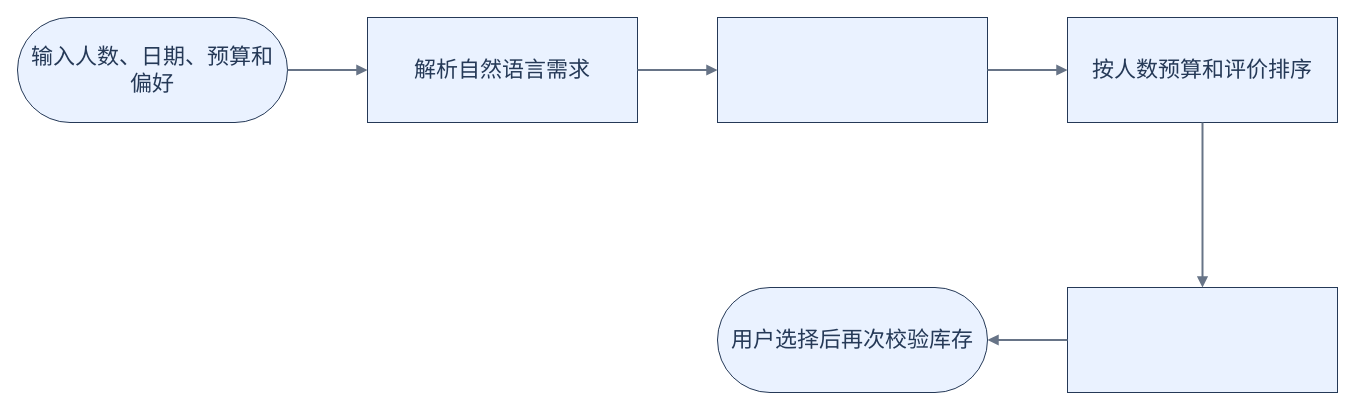
Image size: 1355x410. Some labels were removed from this diagram. The shapes that lost their labels are listed below. From the top down, each one's centre as x and y in pixels, then its label:
the point at 852,69: 读取上架房型、日价与库存
the point at 1202,339: 返回可订房型及解释
